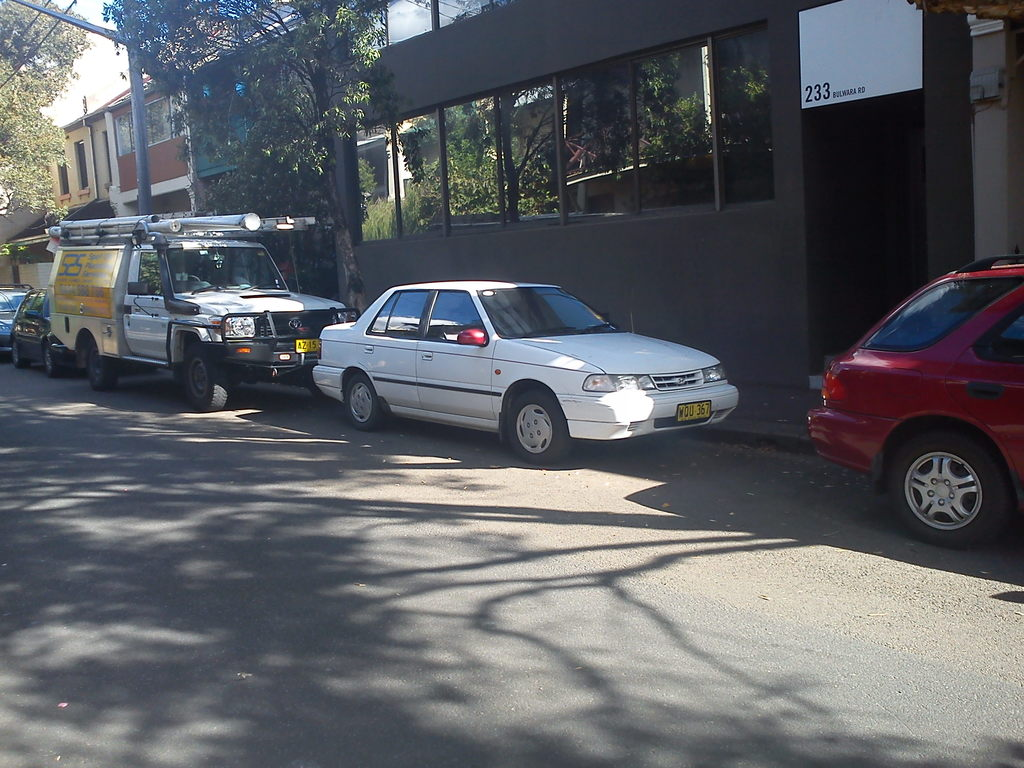Car: (301, 271, 766, 460), (798, 248, 1023, 561), (0, 286, 81, 384), (0, 286, 46, 348)
